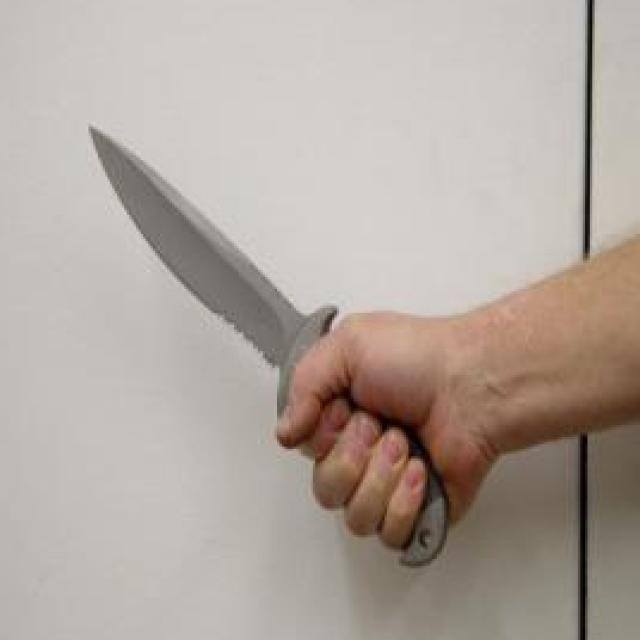knife: (86, 110, 382, 547)
